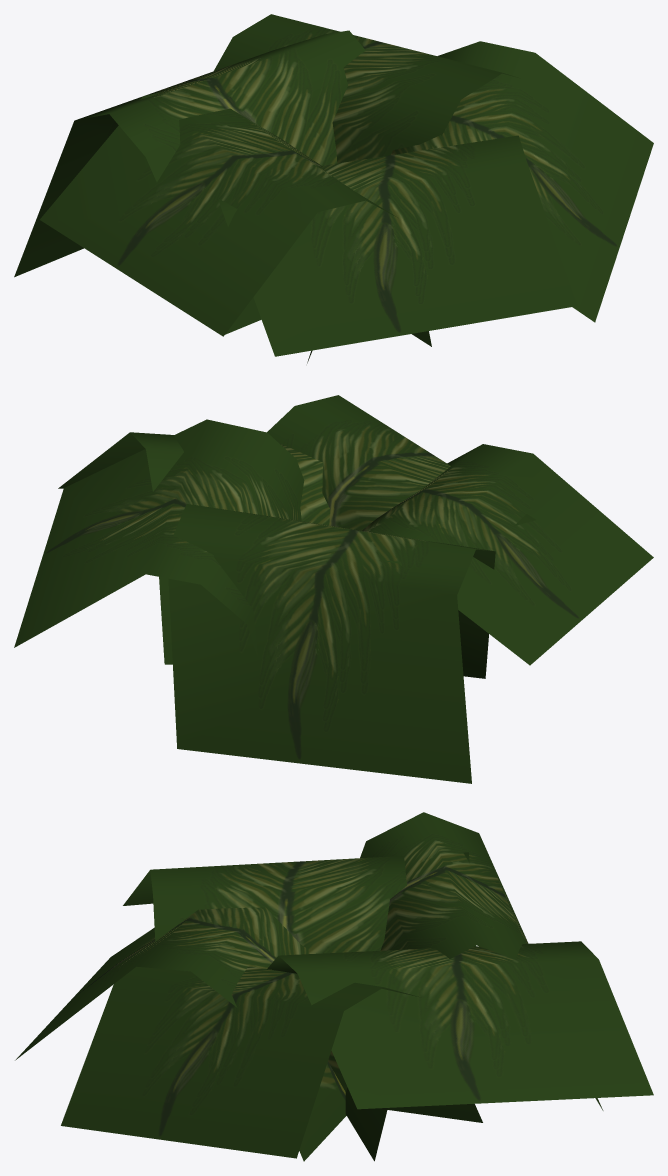
Rendered from Palm_Light.FBX.
3 views of the same model, one above another, from view 1: azimuth 30°, elevation 25°; view 2: azimuth 150°, elevation 25°; view 3: azimuth 270°, elevation 25° (orthographic). The views are drawn at different scales.
Parts seen in each view (by area): view 1: Plane101; view 2: Plane101; view 3: Plane101.
Part boxes in pixels (x1,y1,x2,y2): Plane101: [14, 14, 653, 363]; Plane101: [14, 395, 653, 783]; Plane101: [15, 812, 653, 1161].
Size of the model in its own units: 151 by 58.72 by 149.
1 material, 1 textured.
